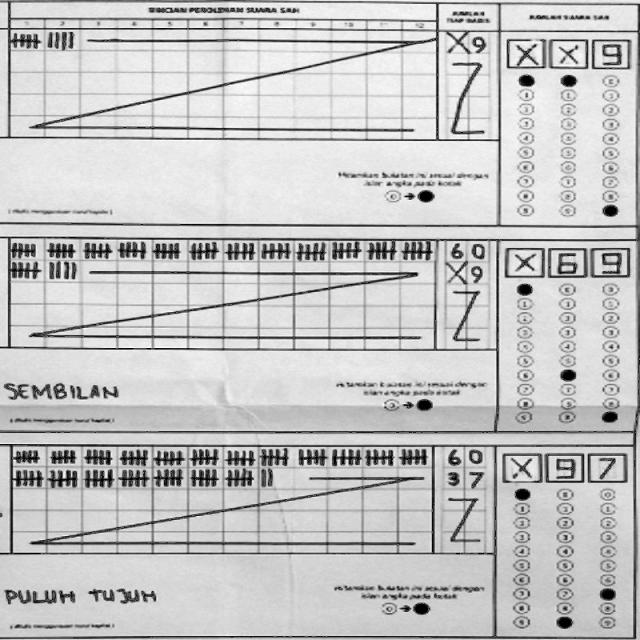Suara: (498, 238, 633, 282), (496, 445, 634, 486), (502, 33, 636, 72)
